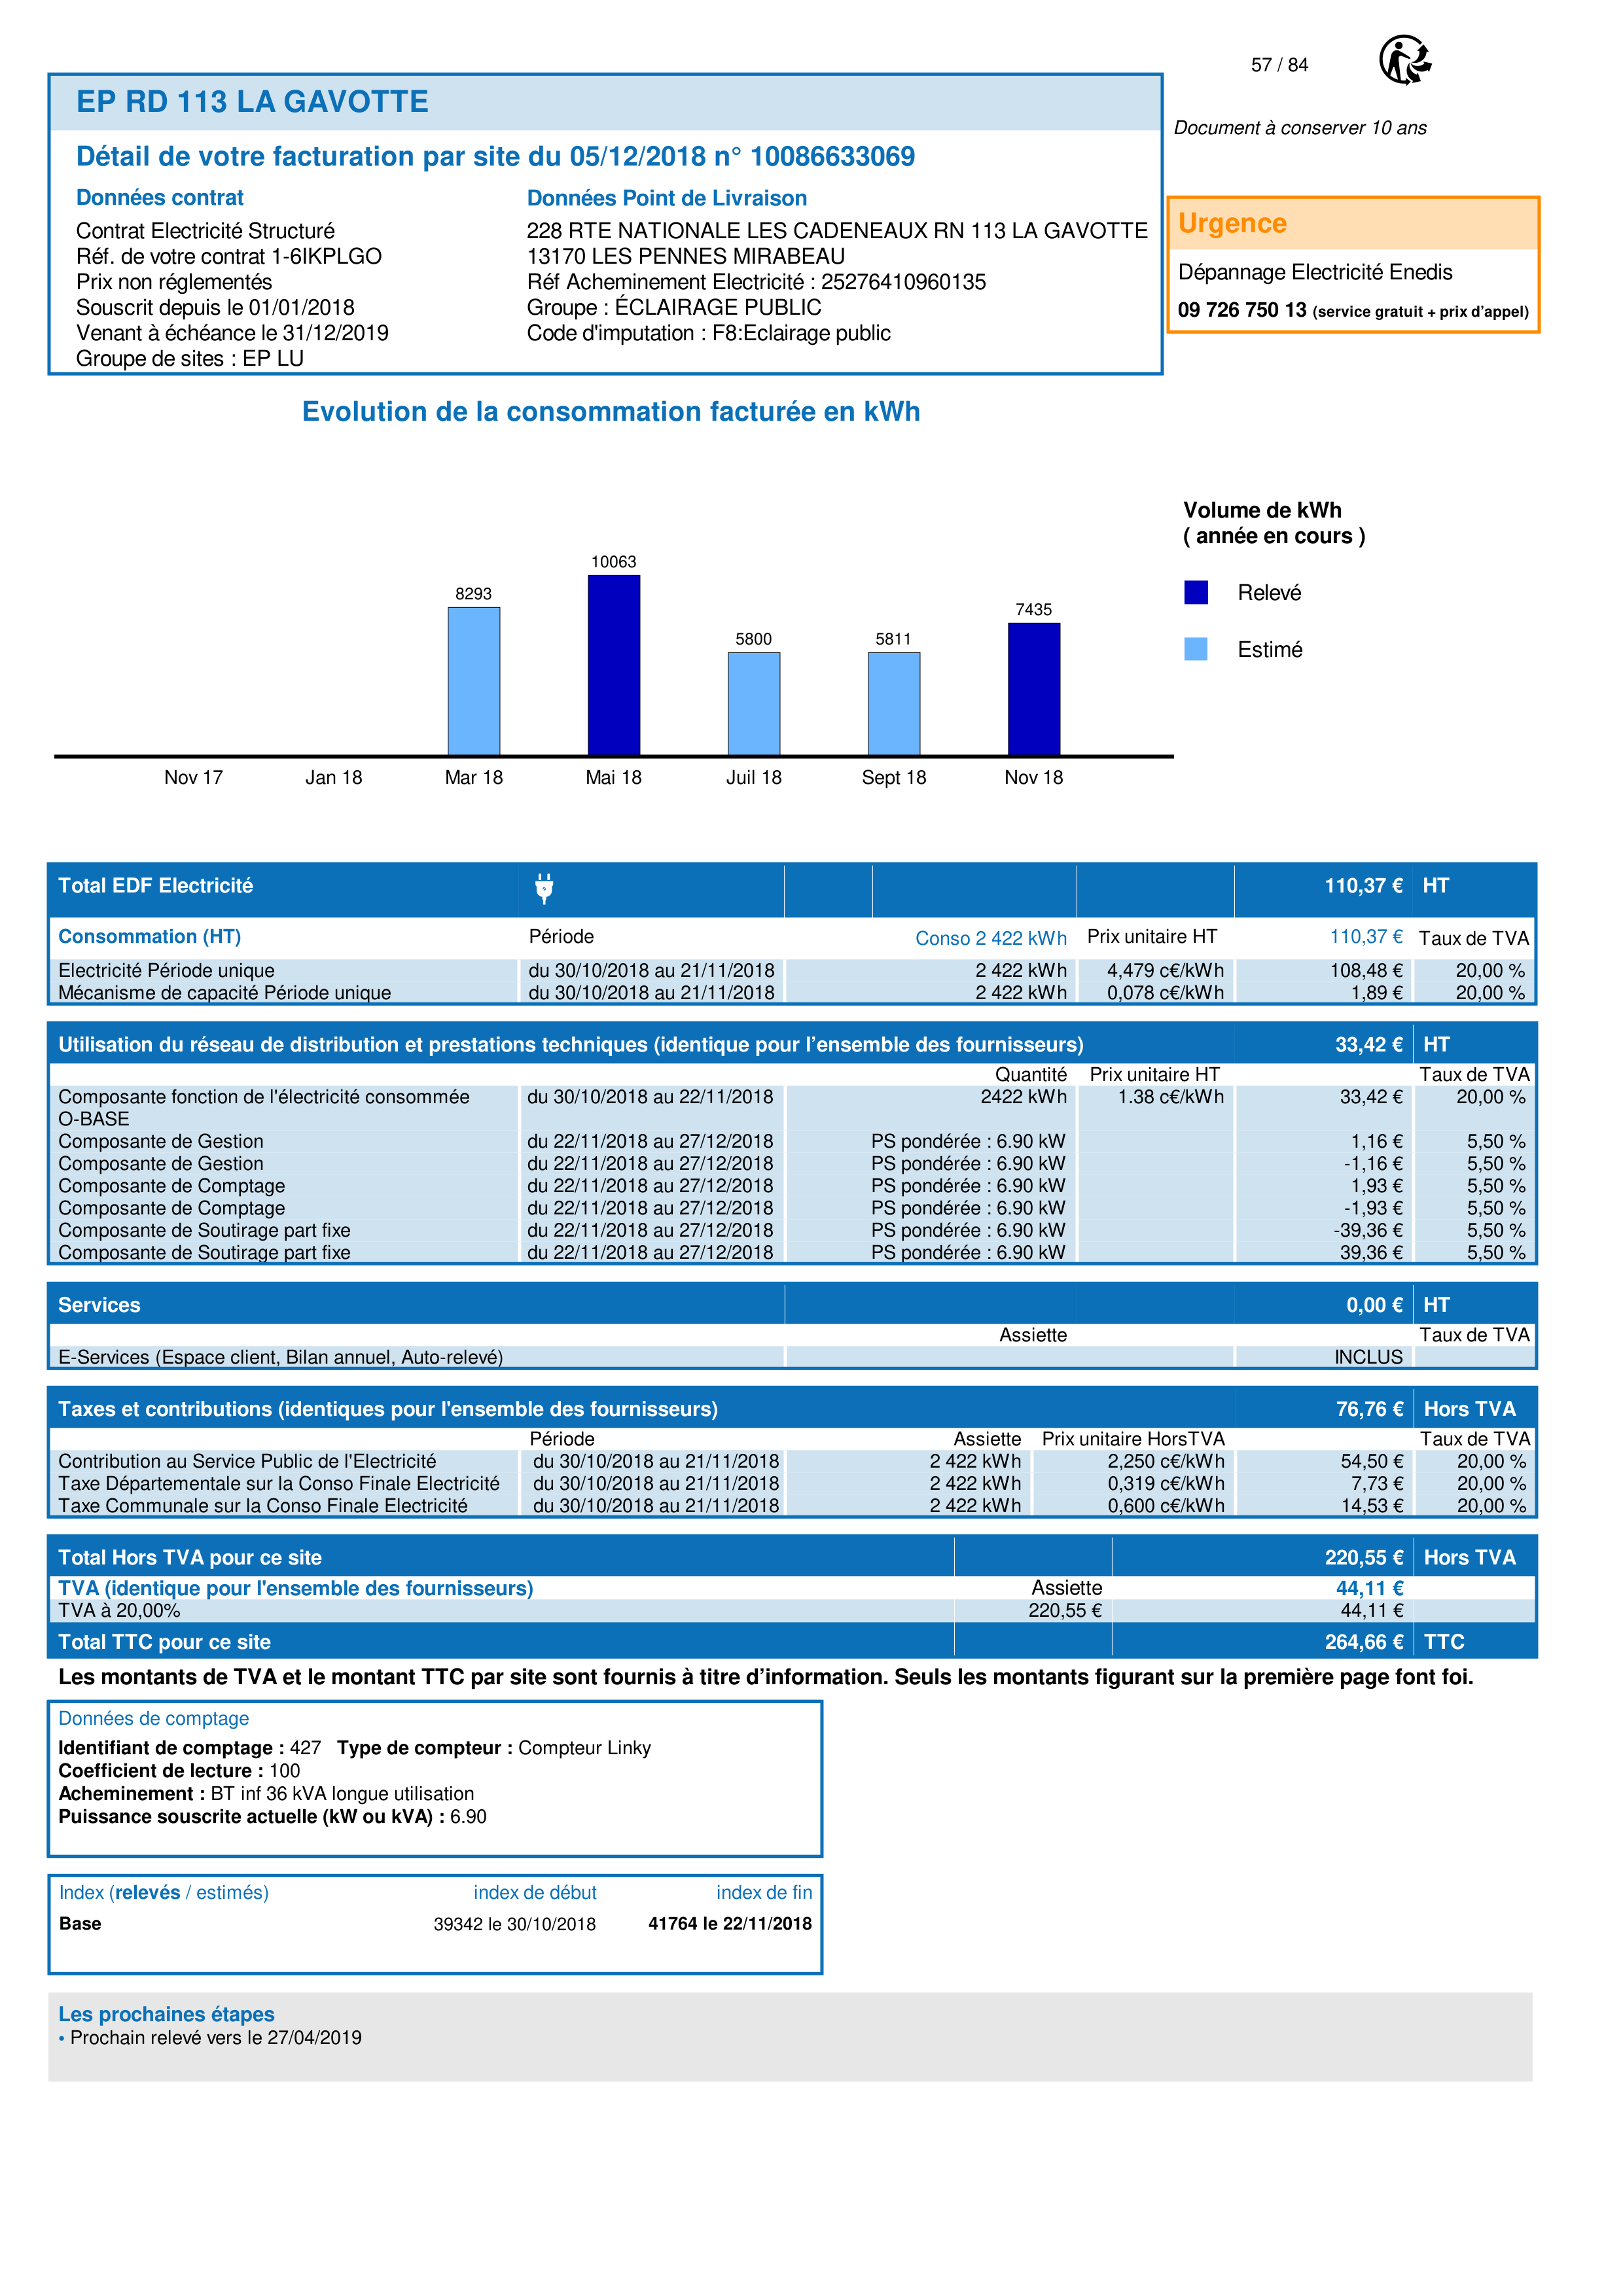area: (46, 1875, 823, 1976)
type_indicator: (45, 1876, 285, 1913)
